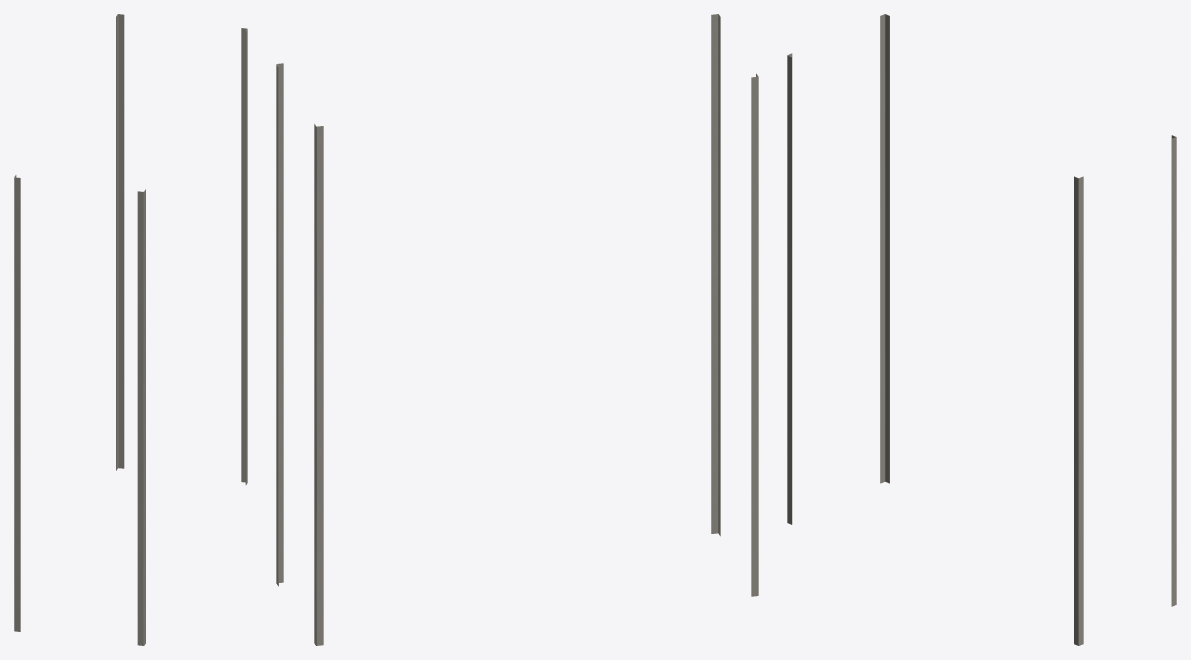
File: shelf_0301_t50_h1500_w1200.glb
3 views of the same model, side by side, from view 1: azimuth 30°, elevation 25°; view 2: azimuth 150°, elevation 25°; view 3: azimuth 270°, elevation 25° (orthographic). The views are drawn at different scales.
Visible parts, largest first — view 1: shelf_0301_t50_h1500_w1200; view 2: shelf_0301_t50_h1500_w1200; view 3: shelf_0301_t50_h1500_w1200.
Part boxes in pixels (box(x1,y1,x2,y2)): shelf_0301_t50_h1500_w1200: box(14, 14, 247, 645); shelf_0301_t50_h1500_w1200: box(276, 14, 758, 645); shelf_0301_t50_h1500_w1200: box(787, 14, 1176, 645).
Bounding box in the file's own units: 1.13 × 1.5 × 1.13.
1 material, 1 textured.
